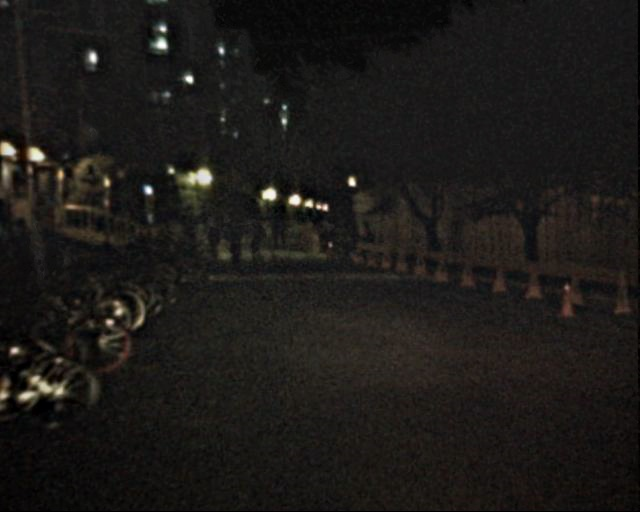person: (22, 216, 52, 288), (53, 220, 78, 280), (356, 221, 378, 274), (227, 221, 248, 272), (243, 215, 263, 264), (180, 216, 198, 261), (203, 214, 221, 257), (217, 214, 233, 252), (271, 223, 290, 251)
